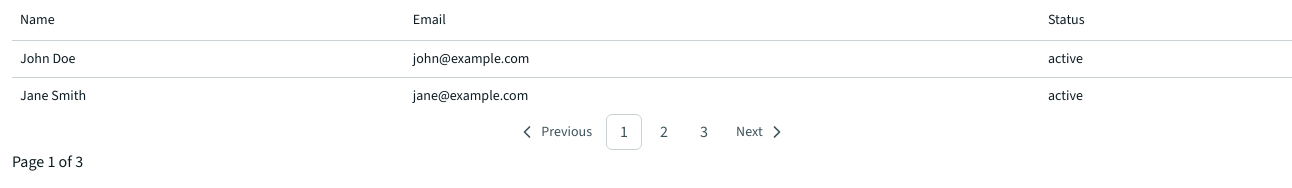
Test: Data Display Integration › Paginated Table › navigates to previous page
Note: Go to page 2
Click the link with aria-label "go to next page" at (761, 132), box [736,122,787,142]
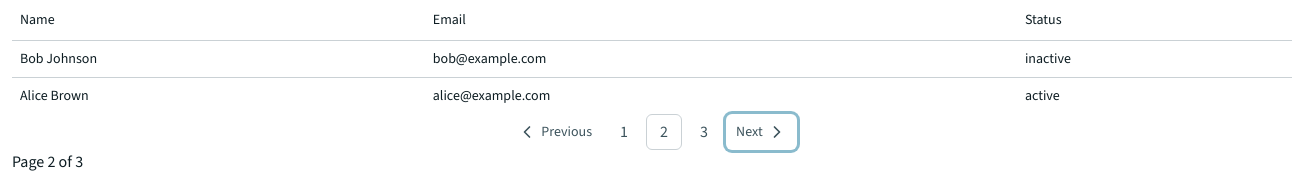
Now the text with test id "page-info" reads "Page 2 of 3", box [12,150,83,172]
Note: Go back to page 1
Click the link with aria-label "go to previous page" at (555, 132), box [517,122,592,142]
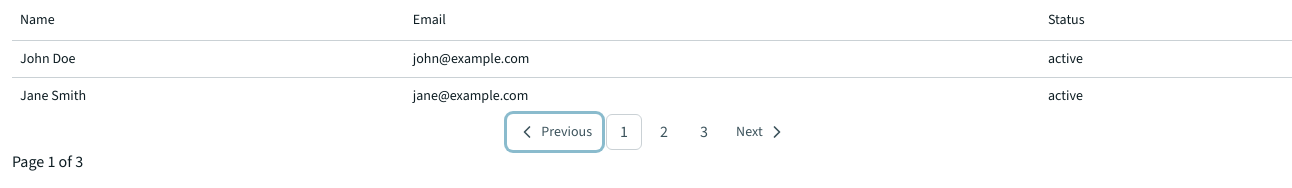
Now the text with test id "page-info" reads "Page 1 of 3", box [12,150,83,172]
Now the text "John Doe" is shown, box [12,40,405,77]
